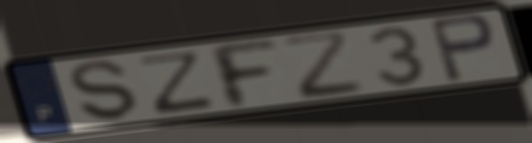3: (360, 23, 430, 88)
F: (201, 38, 283, 111)
P: (425, 12, 500, 85)
S: (67, 58, 143, 122)
Z: (276, 28, 371, 103), (138, 47, 218, 117)
